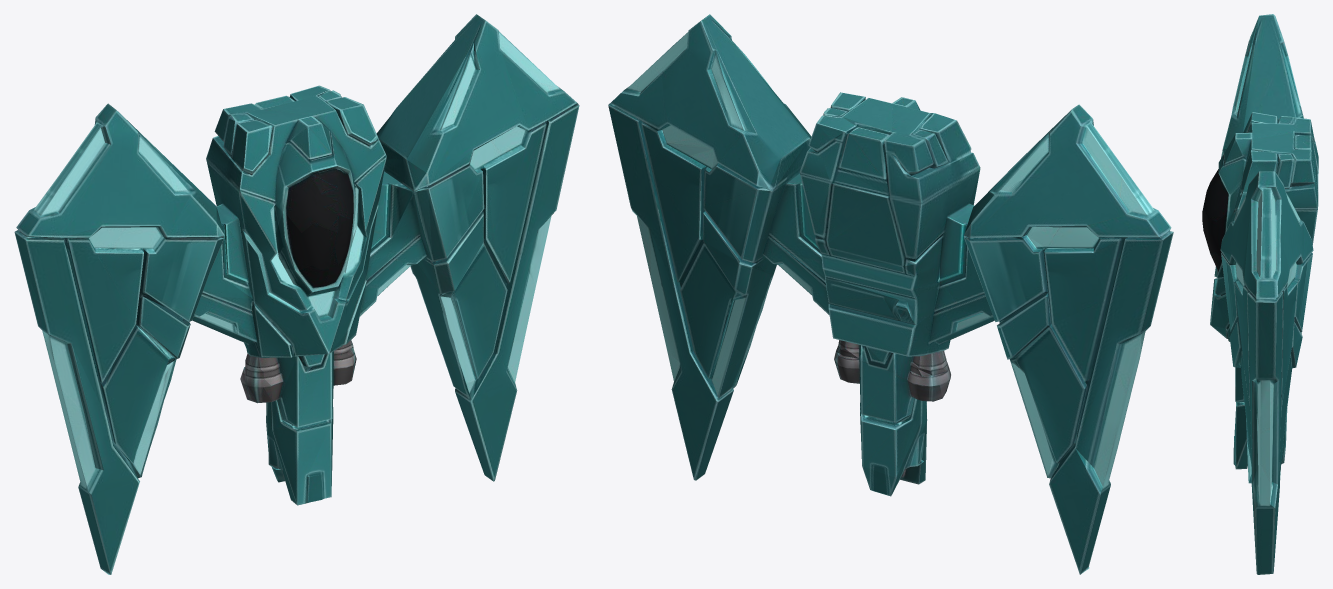
Rendered from Enemy4-v2.glb.
The picture shows the model from 3 angles, left to right: view 1: azimuth 30°, elevation 25°; view 2: azimuth 150°, elevation 25°; view 3: azimuth 270°, elevation 25°; orthographic projection. The views are drawn at different scales.
Visible parts, largest first — view 1: output_unwrapped; view 2: output_unwrapped; view 3: output_unwrapped.
Boxes of the visible parts, x1,y1,x2,y2 form: output_unwrapped: (14,14,579,574); output_unwrapped: (608,14,1173,574); output_unwrapped: (1202,14,1318,574).
Size of the model in its own units: 1.9 by 1.52 by 0.3995.
Materials: 1 (1 with a texture image).
